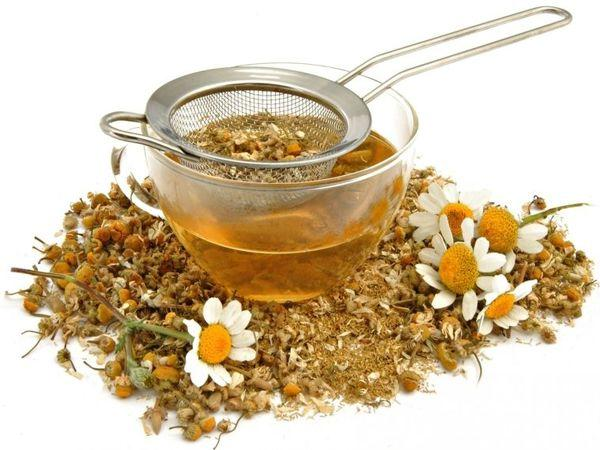chamomile: (180, 303, 266, 394), (416, 250, 504, 317), (471, 275, 551, 336), (467, 200, 534, 269), (414, 188, 479, 255)
